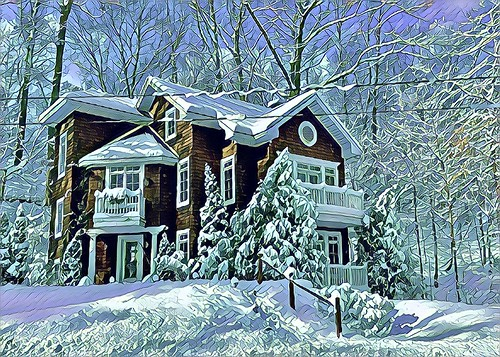medium: (35, 74, 372, 296)
